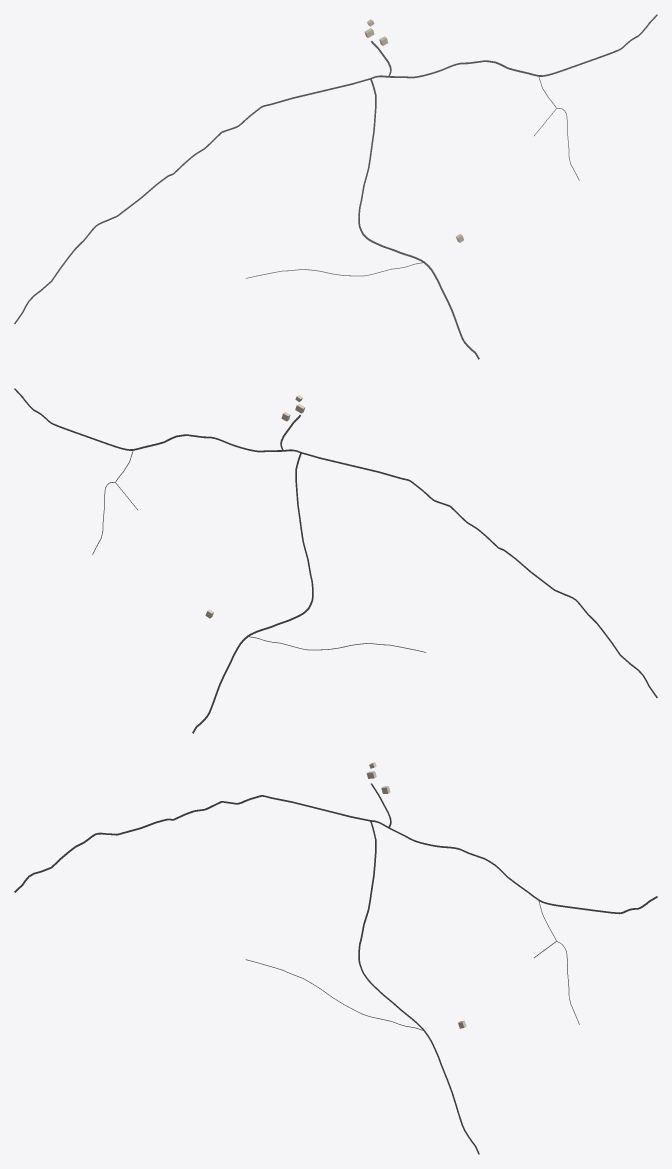
File: irbid_3577_3248.glb
3 renders of one model, top to bottom at view 1: azimuth 30°, elevation 25°; view 2: azimuth 150°, elevation 25°; view 3: azimuth 330°, elevation 25°, orthographic.
Visible parts, largest first — view 1: Road, Road .004, Road .005; view 2: Road, Road .004, Road .005; view 3: Road, Road .004, Road .005.
Part boxes in pixels (left/top/right/bottom): Road: left=14, top=78, right=370, bottom=323; Road .004: left=358, top=79, right=479, bottom=359; Road .005: left=370, top=14, right=657, bottom=79; Road: left=301, top=452, right=657, bottom=697; Road .004: left=192, top=453, right=313, bottom=733; Road .005: left=14, top=388, right=301, bottom=453; Road: left=14, top=795, right=370, bottom=892; Road .004: left=358, top=821, right=479, bottom=1154; Road .005: left=370, top=820, right=657, bottom=914.
Size of the model in its own units: 1266 by 686 by 8.7.
